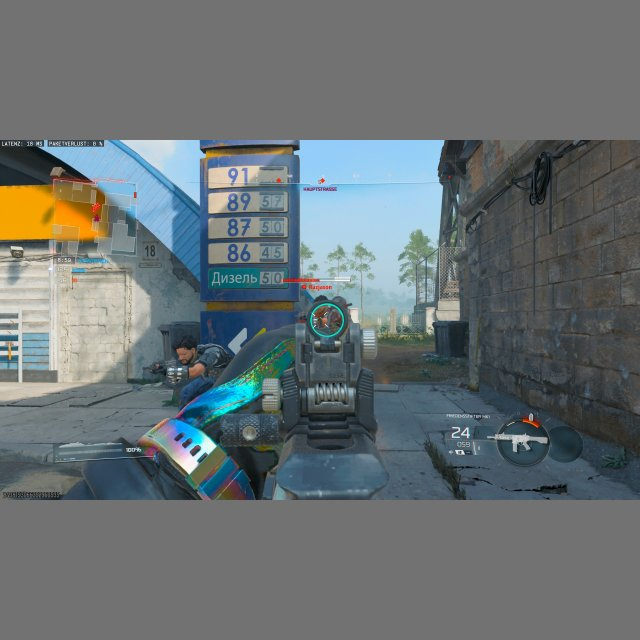head: (172, 335, 198, 363)
player: (148, 334, 233, 415)
